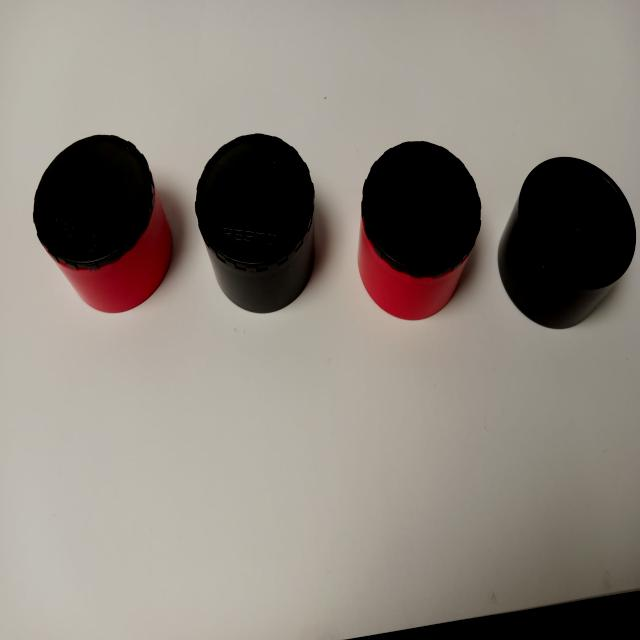NoLid: (500, 147, 637, 331)
Workpiece: (18, 126, 188, 330), (350, 124, 488, 336), (206, 116, 328, 320)
